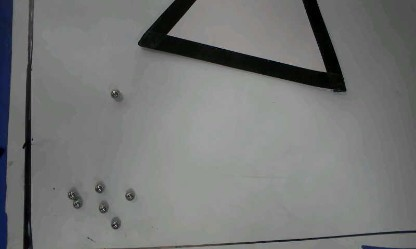ironball: (98, 202, 108, 213), (124, 190, 134, 201), (110, 218, 120, 229), (110, 88, 120, 99), (72, 198, 82, 208), (94, 183, 104, 193), (67, 190, 75, 200)
